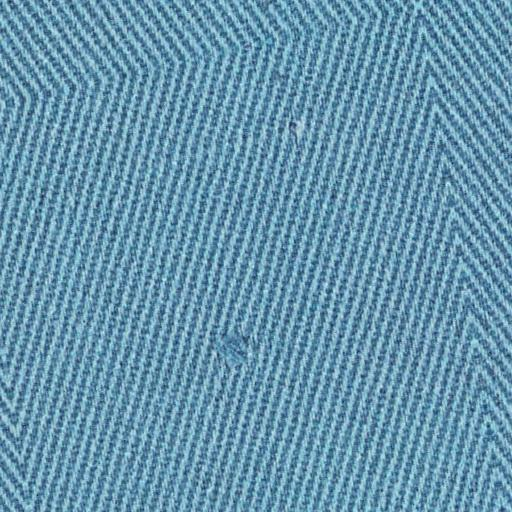knot: (202, 327, 269, 380)
